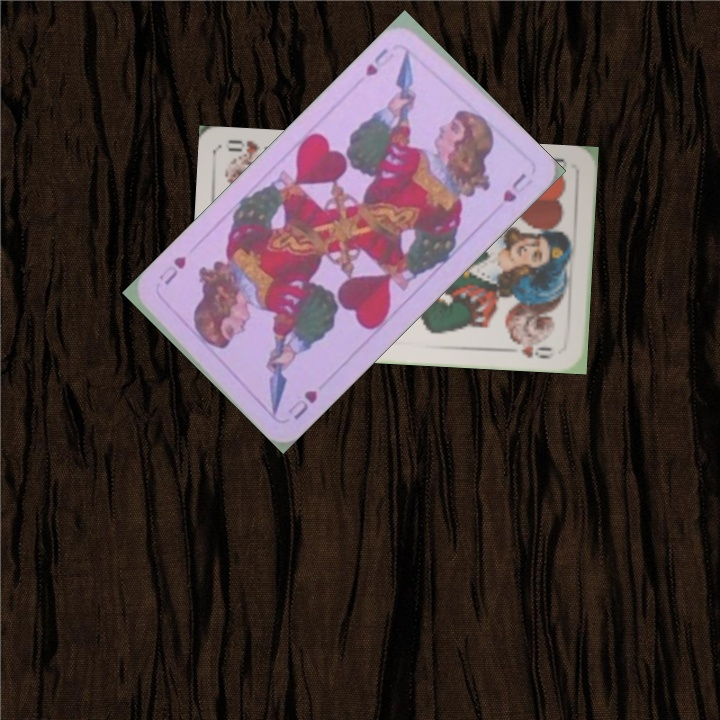HU: (361, 42, 409, 79), (283, 386, 320, 423)
